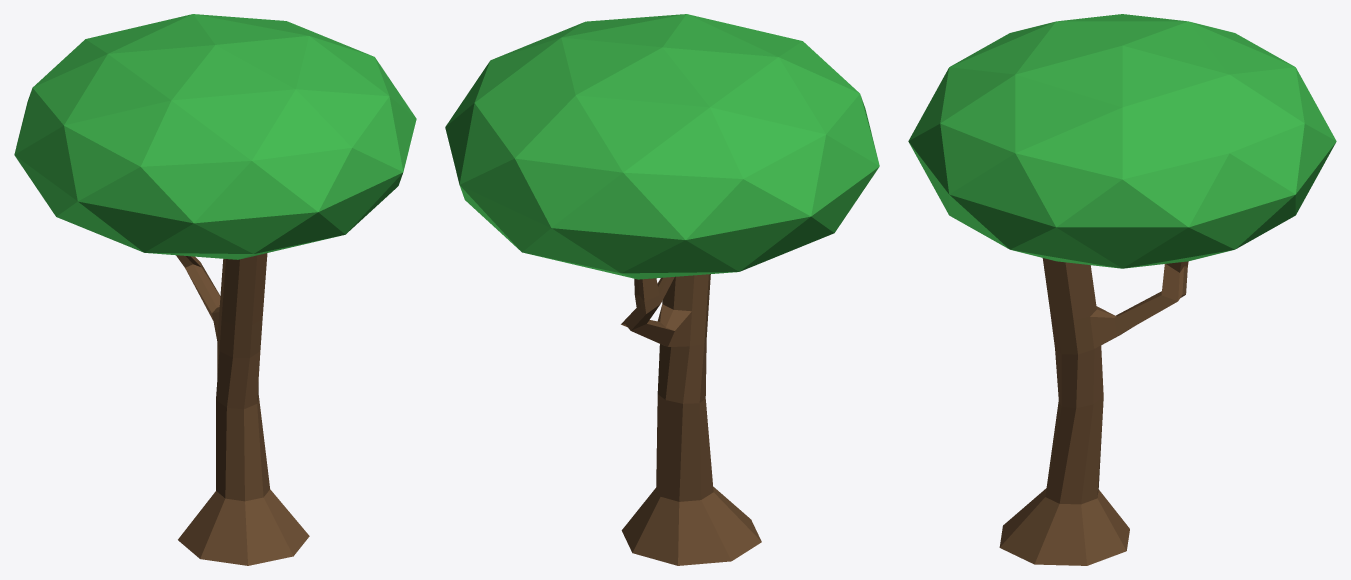
File: Arbol7.fbx
The picture shows the model from 3 angles, left to right: view 1: azimuth 30°, elevation 25°; view 2: azimuth 150°, elevation 25°; view 3: azimuth 270°, elevation 25°; orthographic projection. The views are drawn at different scales.
Visible parts, largest first — view 1: Icosphere.002; view 2: Icosphere.002; view 3: Icosphere.002.
Boxes of the visible parts, bbox=[...] form: Icosphere.002: bbox=[14, 14, 416, 565]; Icosphere.002: bbox=[445, 14, 879, 565]; Icosphere.002: bbox=[908, 14, 1336, 565].
Bounding box in the file's own units: 308 × 410 × 323.
